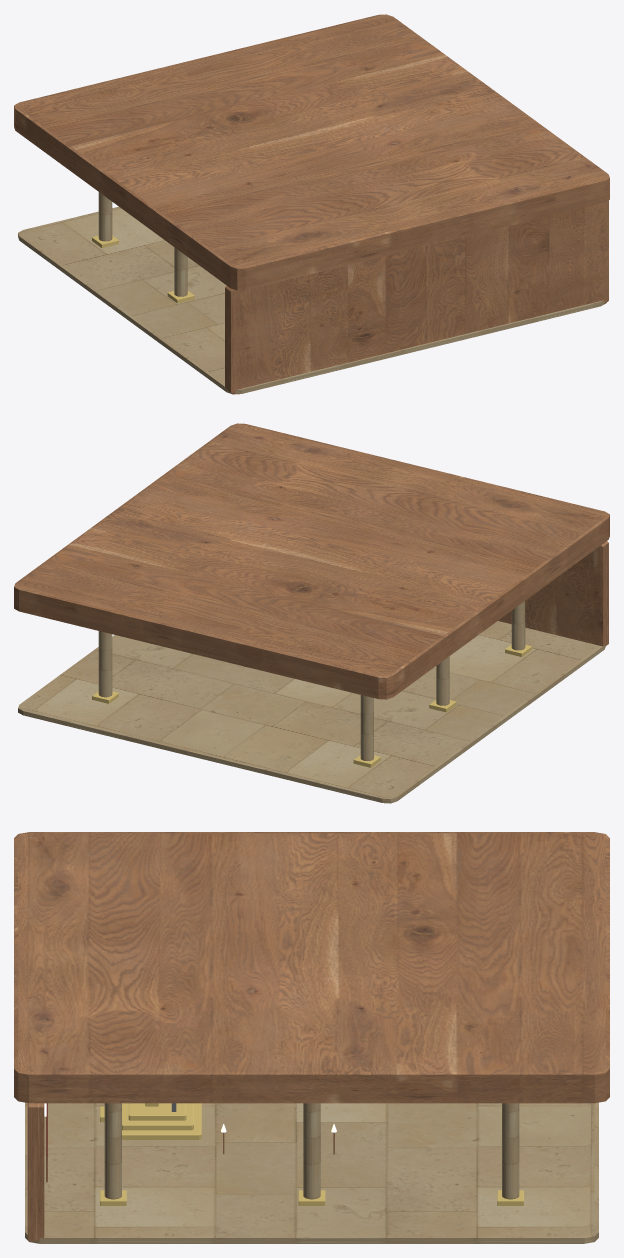
Rendered from adi-04-bhishma-vow.glb.
The picture shows the model from 3 angles, top to bottom: view 1: azimuth 30°, elevation 25°; view 2: azimuth 150°, elevation 25°; view 3: azimuth 270°, elevation 25°; orthographic projection. The views are drawn at different scales.
Visible parts, largest first — view 1: GEO-roof, GEO-rearwall, GEO-floor, GEO-col.002, GEO-col.004; view 2: GEO-roof, GEO-floor, GEO-rearwall, GEO-col.003, GEO-col.002, GEO-col, GEO-col.004; view 3: GEO-roof, GEO-floor, GEO-rearwall, GEO-col.001, GEO-col.003, GEO-col.005, GEO-dais1, GEO-dais0, GEO-dais2.
Part boxes in pixels (left/top/right/bottom): GEO-roof: left=14, top=14, right=609, bottom=290; GEO-rearwall: left=225, top=200, right=608, bottom=393; GEO-floor: left=18, top=206, right=605, bottom=394; GEO-col.002: left=98, top=192, right=112, bottom=241; GEO-col.004: left=174, top=247, right=187, bottom=296; GEO-roof: left=14, top=423, right=609, bottom=699; GEO-floor: left=18, top=621, right=605, bottom=803; GEO-rearwall: left=498, top=541, right=608, bottom=646; GEO-col.003: left=98, top=631, right=112, bottom=697; GEO-col.002: left=360, top=695, right=373, bottom=760; GEO-col: left=511, top=601, right=525, bottom=650; GEO-col.004: left=436, top=656, right=449, bottom=705; GEO-roof: left=14, top=832, right=609, bottom=1103; GEO-floor: left=25, top=1102, right=598, bottom=1243; GEO-rearwall: left=27, top=1103, right=44, bottom=1241; GEO-col.001: left=104, top=1103, right=121, bottom=1199; GEO-col.003: left=502, top=1103, right=519, bottom=1199; GEO-col.005: left=303, top=1103, right=320, bottom=1199; GEO-dais1: left=122, top=1103, right=193, bottom=1130; GEO-dais0: left=122, top=1103, right=201, bottom=1139; GEO-dais2: left=128, top=1103, right=186, bottom=1120.
Size of the model in its own units: 52 by 17 by 54.
Materials: 9 (3 with a texture image).
